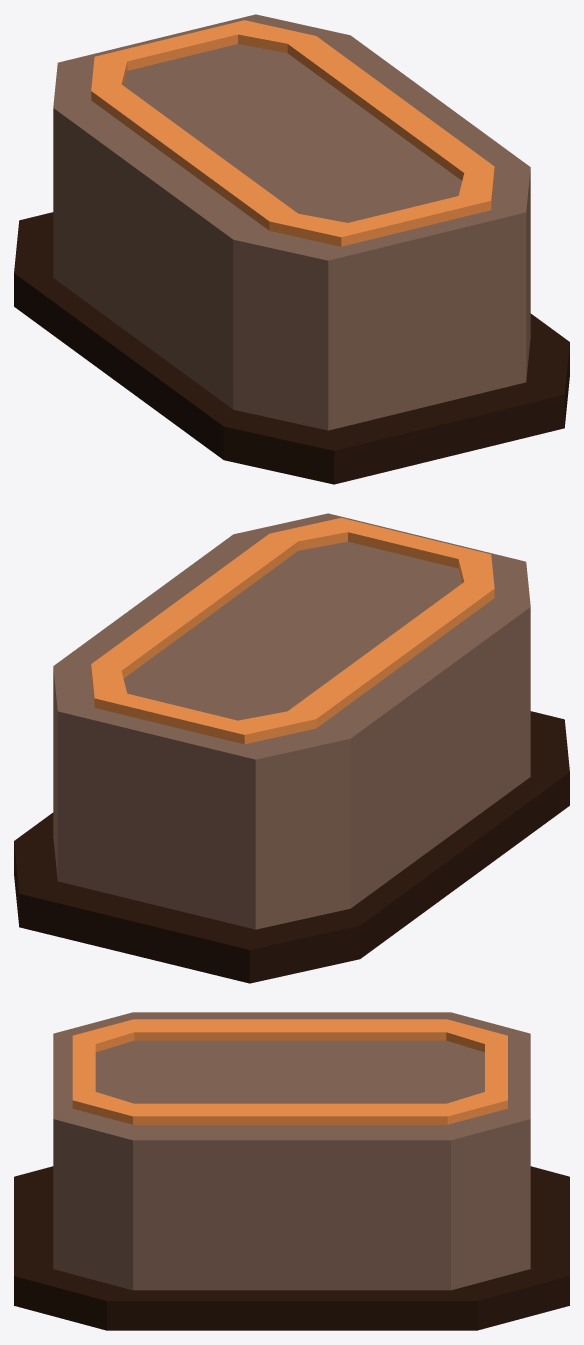
File: Tomb 01.FBX
The picture shows the model from 3 angles, top to bottom: view 1: azimuth 30°, elevation 25°; view 2: azimuth 150°, elevation 25°; view 3: azimuth 270°, elevation 25°; orthographic projection. The views are drawn at different scales.
Visible parts, largest first — view 1: Tomb 01 Base, Tomb 01 Cover; view 2: Tomb 01 Base, Tomb 01 Cover; view 3: Tomb 01 Base, Tomb 01 Cover.
Boxes of the visible parts, bbox=[...] form: Tomb 01 Base: bbox=[14, 148, 569, 484]; Tomb 01 Cover: bbox=[53, 14, 530, 300]; Tomb 01 Base: bbox=[14, 647, 569, 983]; Tomb 01 Cover: bbox=[53, 513, 530, 799]; Tomb 01 Base: bbox=[14, 1154, 569, 1330]; Tomb 01 Cover: bbox=[53, 1012, 530, 1175].
Bounding box in the file's own units: 172 × 101 × 270.
